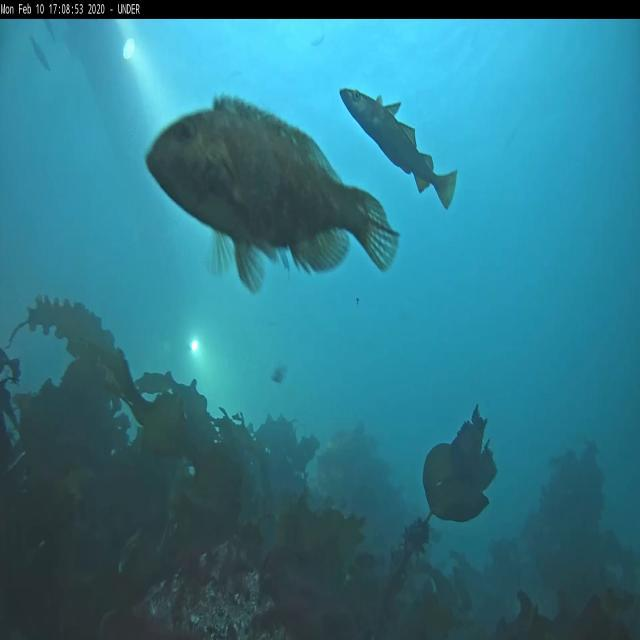fish: (146, 95, 398, 294), (338, 85, 458, 211), (30, 32, 50, 69), (44, 19, 56, 42)
